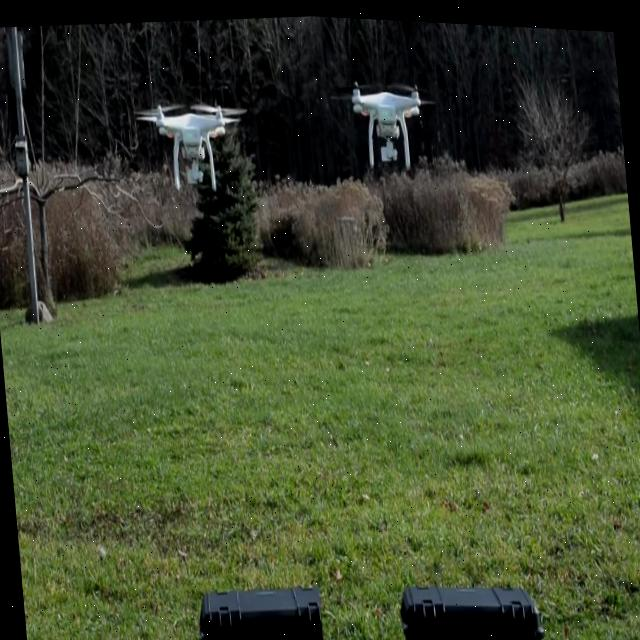drone: (118, 46, 262, 210), (28, 608, 640, 640), (341, 47, 441, 189)
